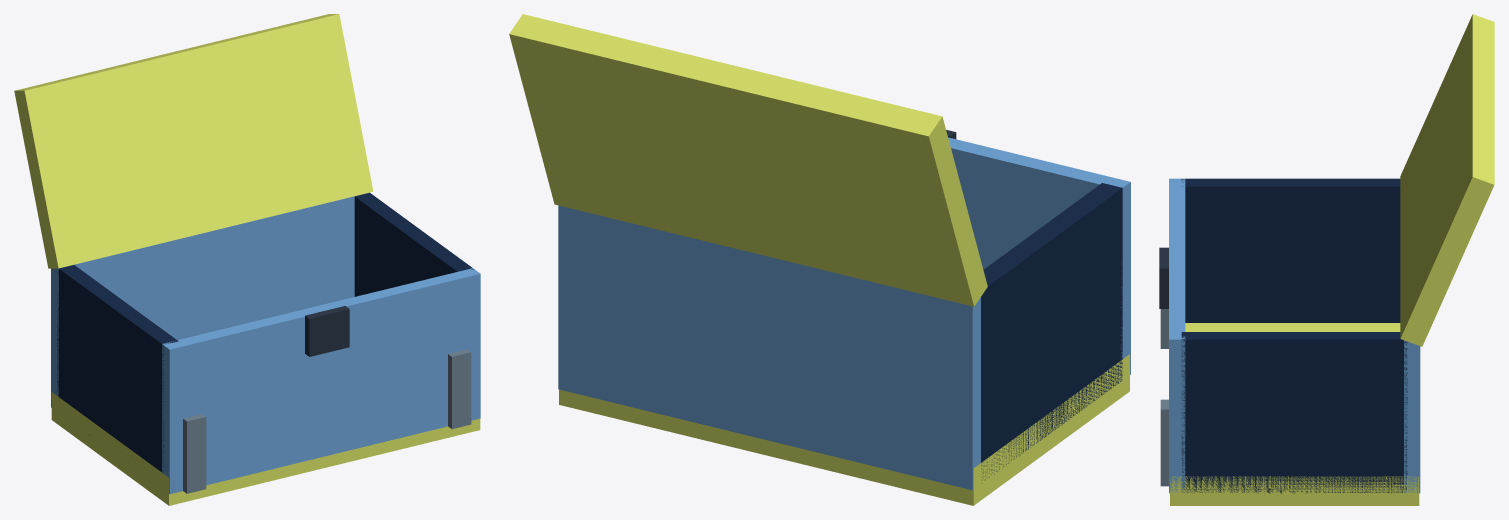
3 views of the same model, side by side, from view 1: azimuth 30°, elevation 25°; view 2: azimuth 150°, elevation 25°; view 3: azimuth 270°, elevation 25° (orthographic). The views are drawn at different scales.
Parts seen in each view (by area): view 1: raised lid, panel 0.5, panel -0.5, end panel -0.77, floor, end panel 0.77, clasp, corner 0.69, corner -0.69; view 2: raised lid, panel -0.5, end panel -0.77, floor, panel 0.5; view 3: end panel 0.77, end panel -0.77, raised lid, floor, panel 0.5, panel -0.5, corner 0.69, clasp.
Boxes of the visible parts, x1,y1,x2,y2 form: raised lid: [14, 14, 373, 268]; panel 0.5: [162, 268, 480, 494]; panel -0.5: [51, 195, 356, 407]; end panel -0.77: [57, 265, 178, 472]; floor: [51, 392, 480, 505]; end panel 0.77: [354, 192, 473, 296]; clasp: [305, 306, 349, 356]; corner 0.69: [448, 349, 471, 428]; corner -0.69: [183, 414, 206, 493]; raised lid: [509, 14, 987, 306]; panel -0.5: [558, 205, 980, 490]; end panel -0.77: [981, 183, 1122, 483]; floor: [559, 354, 1129, 505]; panel 0.5: [948, 137, 1130, 377]; end panel 0.77: [1181, 332, 1407, 493]; end panel -0.77: [1181, 178, 1400, 322]; raised lid: [1400, 14, 1494, 346]; floor: [1170, 323, 1419, 505]; panel 0.5: [1169, 178, 1185, 493]; panel -0.5: [1404, 340, 1420, 493]; corner 0.69: [1160, 399, 1168, 486]; clasp: [1159, 247, 1168, 308].
Size of the model in its own units: 1.64 by 1.55 by 1.42.
